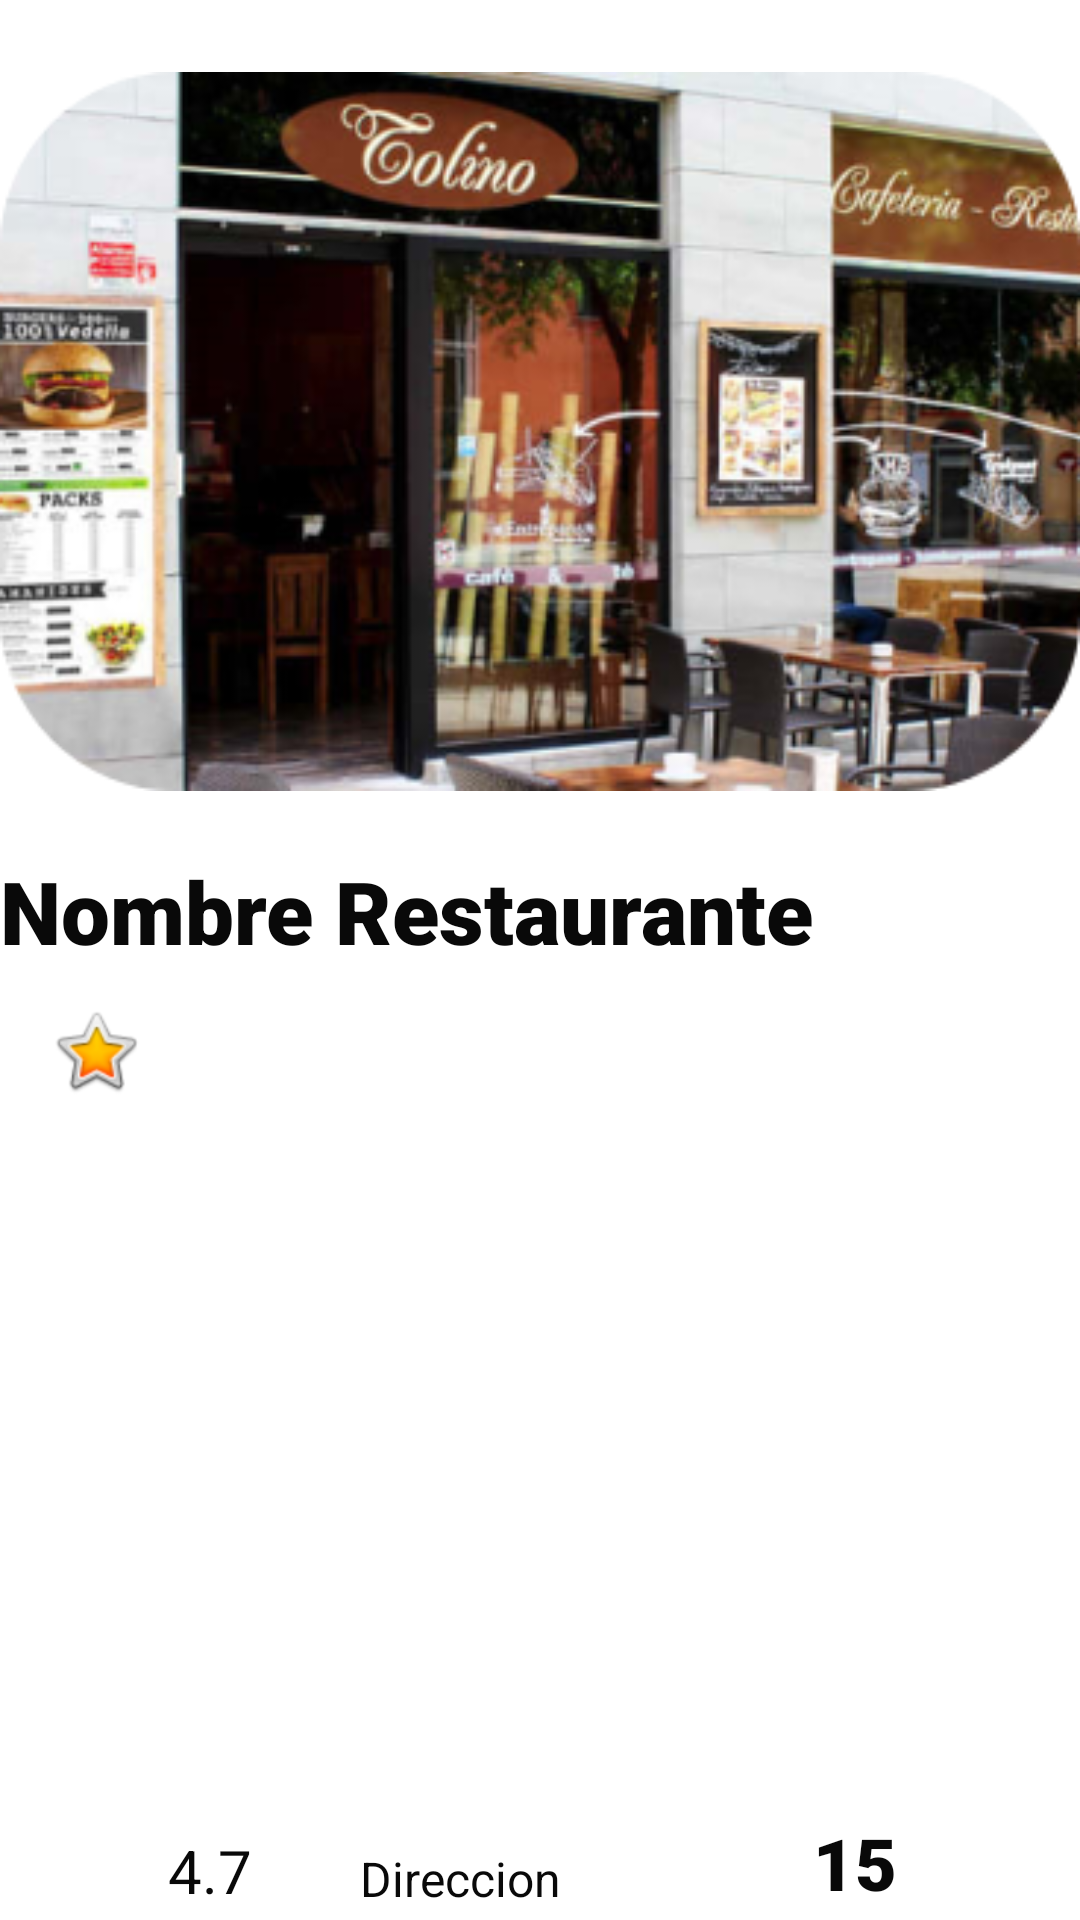

Icons on this 1080*1920 Android screen, each with its box as (x1, y1, x2, y2):
star on: (57, 1013, 137, 1091)
